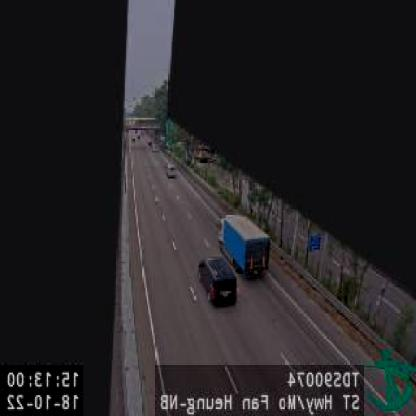Car: (199, 256, 236, 306), (164, 162, 178, 179)
Truck: (217, 213, 270, 280)
